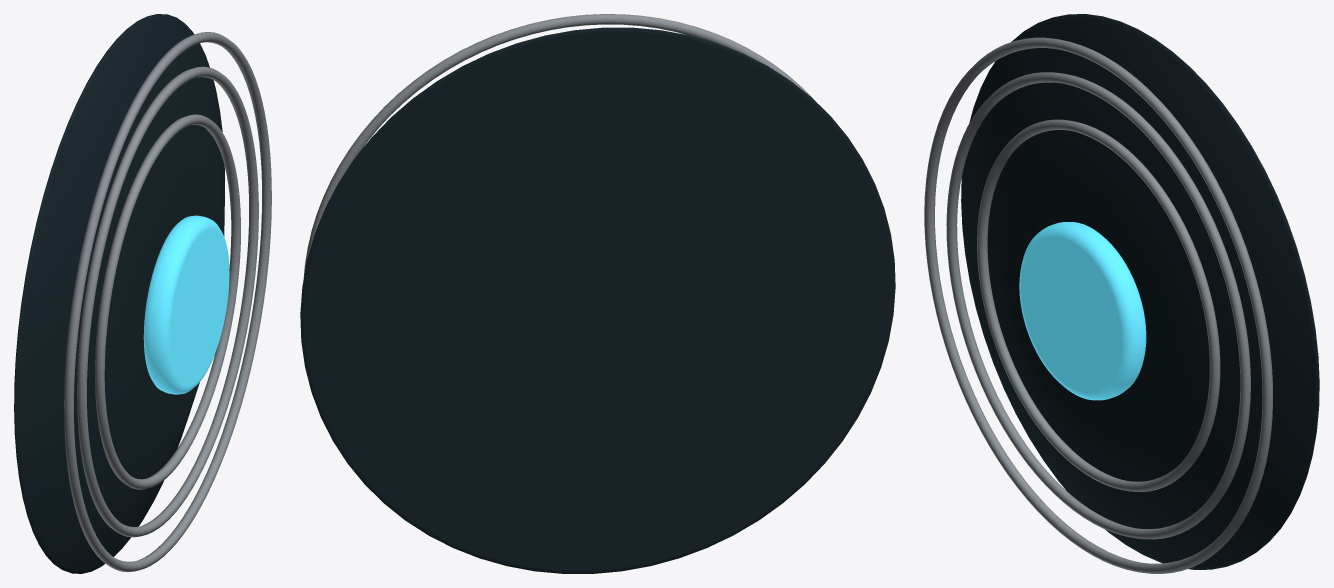
File: SM_HC2_BeatSpeaker_013.fbx
3 renders of one model, left to right at view 1: azimuth 30°, elevation 25°; view 2: azimuth 150°, elevation 25°; view 3: azimuth 270°, elevation 25°, orthographic. The views are drawn at different scales.
Parts seen in each view (by area): view 1: SM_HC2_BeatSpeaker_013; view 2: SM_HC2_BeatSpeaker_013; view 3: SM_HC2_BeatSpeaker_013.
Boxes of the visible parts, bbox=[...] form: SM_HC2_BeatSpeaker_013: bbox=[14, 14, 271, 573]; SM_HC2_BeatSpeaker_013: bbox=[300, 14, 895, 573]; SM_HC2_BeatSpeaker_013: bbox=[924, 14, 1319, 573].
Bounding box in the file's own units: 107 × 88.47 × 129.
